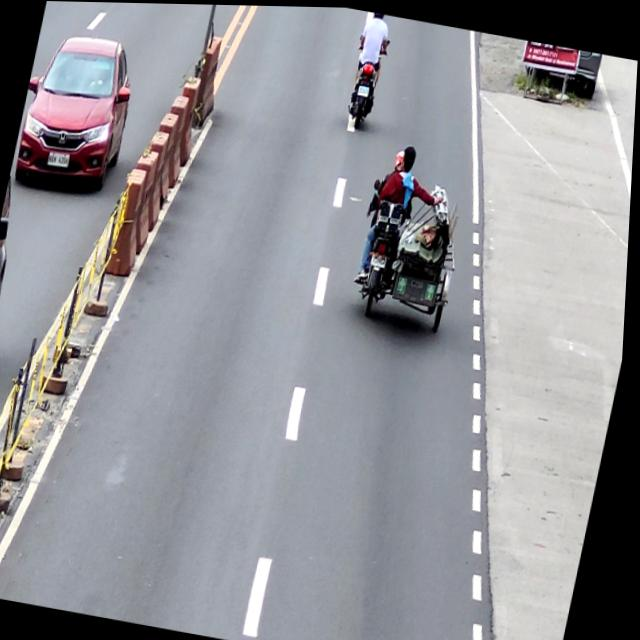License-Plate: (372, 251, 391, 267), (357, 83, 371, 96)
Motorcycle: (341, 28, 394, 131)
Tricycle: (348, 175, 474, 330)
